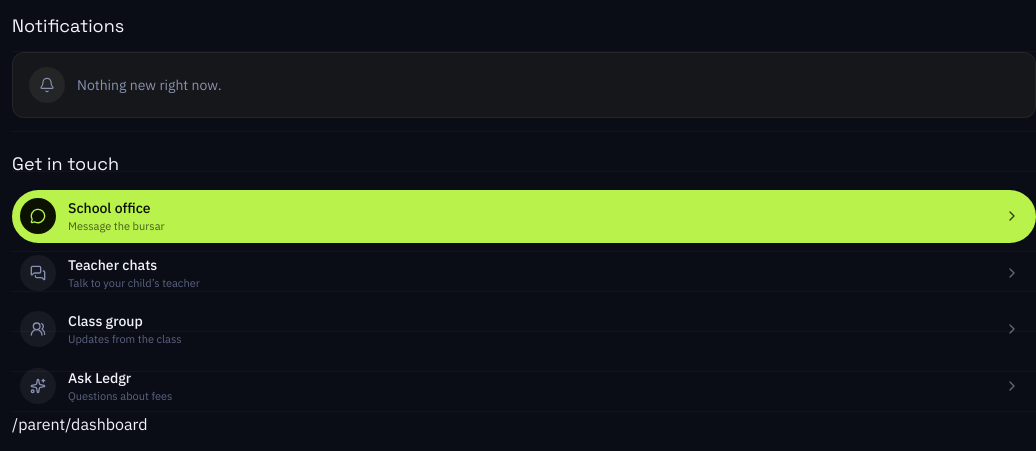
Test: ParentRail "Get in touch" › Teacher chats goes there on the first tap
Click the link "Teacher chats" at (38, 273), box [12, 246, 1035, 299]
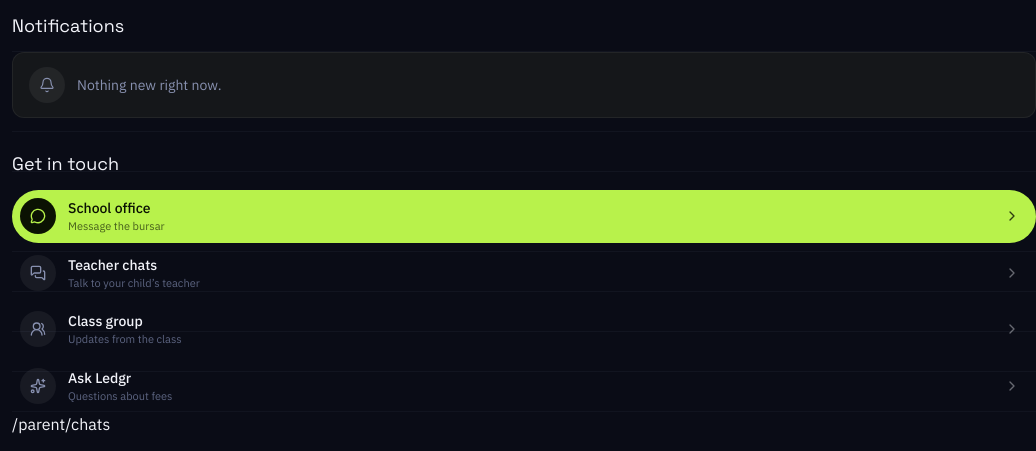
expect the text with test id "where" reads "/parent/chats": met, box [12, 414, 110, 434]
